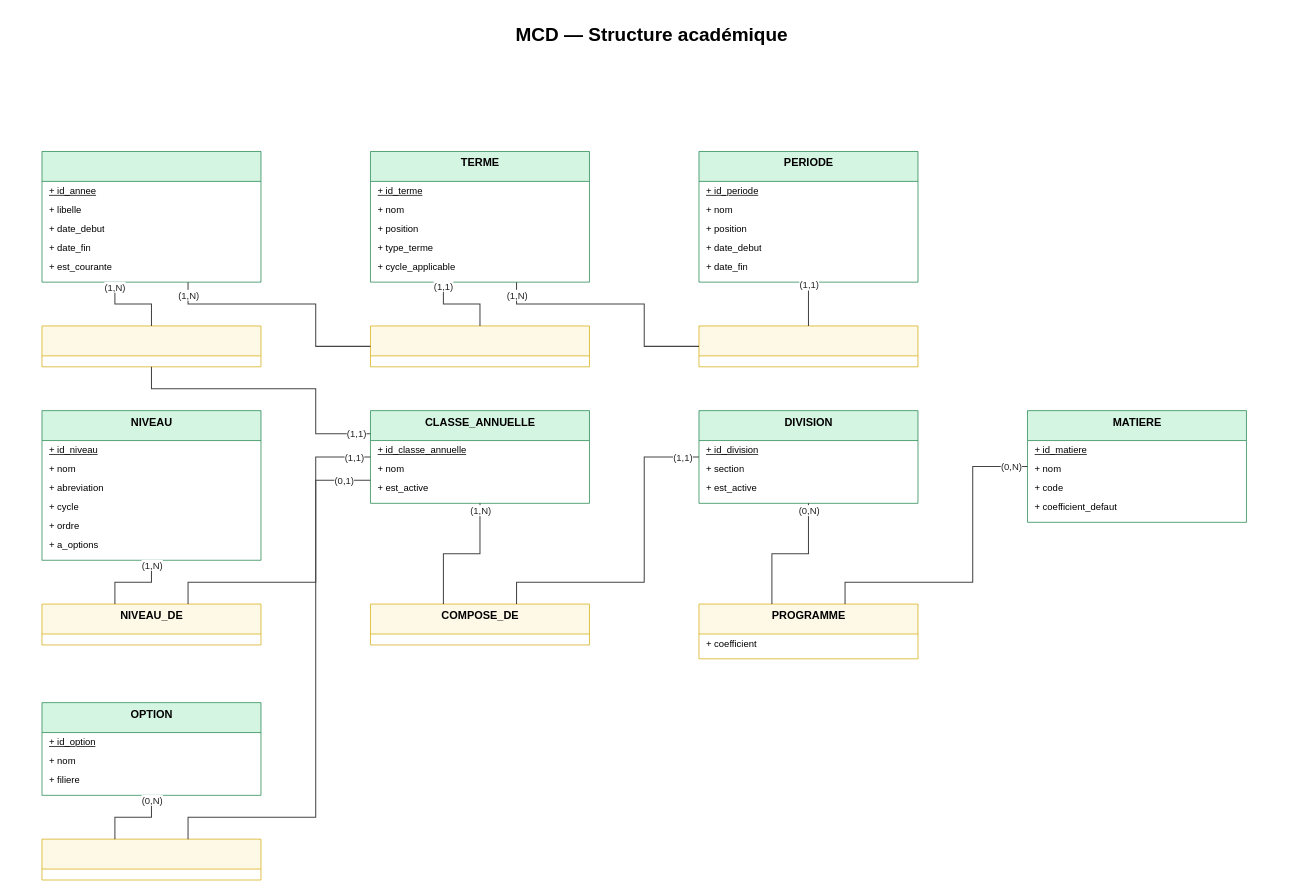
The diagram is 1302 pixels wide and 893 high, and some of its shapes have lost their labels. Here are the shapes that lost their labels. From the top down, the box of each, then its label:
(41, 151, 261, 282): ANNEE_SCOLAIRE
(41, 325, 261, 367): PLANIFIE
(370, 325, 589, 367): RYTHME
(698, 325, 918, 367): PERIODE_DE
(41, 838, 261, 880): OPTION_DE
